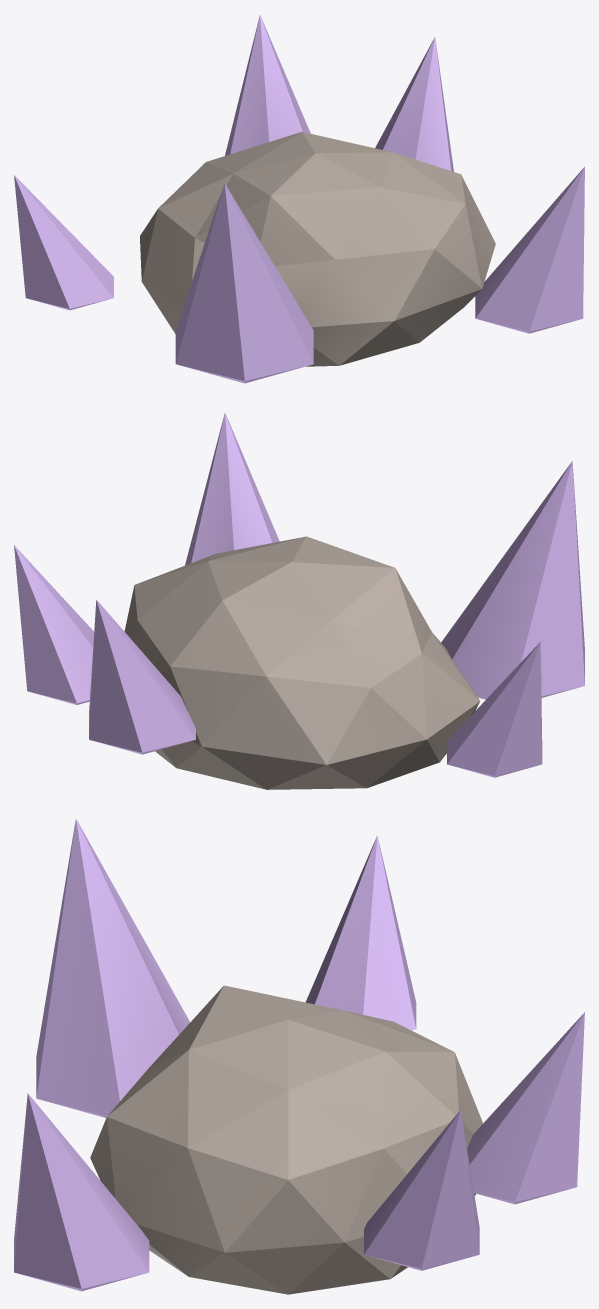
Rendered from VCaveCrystal_A.fbx.
3 renders of one model, top to bottom at view 1: azimuth 30°, elevation 25°; view 2: azimuth 150°, elevation 25°; view 3: azimuth 270°, elevation 25°, orthographic. The views are drawn at different scales.
Parts seen in each view (by area): view 1: VCaveCrystal_A; view 2: VCaveCrystal_A; view 3: VCaveCrystal_A.
Boxes of the visible parts, x1,y1,x2,y2 form: VCaveCrystal_A: [14, 15, 584, 383]; VCaveCrystal_A: [14, 413, 584, 789]; VCaveCrystal_A: [14, 819, 584, 1294].
Bounding box in the file's own units: 1.74 × 0.8586 × 1.5.
